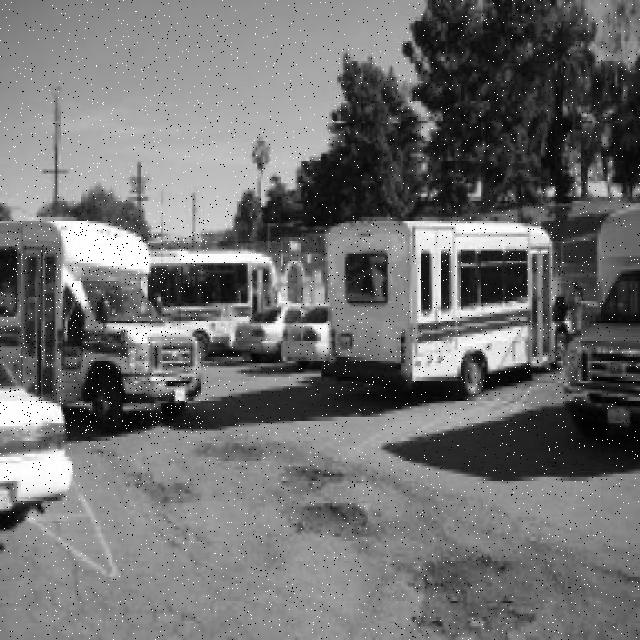Bus- Small: (321, 221, 584, 396), (0, 220, 208, 434)
